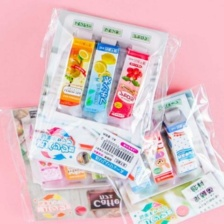carton: (80, 36, 122, 118), (106, 44, 152, 118), (54, 34, 96, 111), (160, 107, 204, 176), (139, 125, 178, 185), (124, 151, 151, 194), (36, 154, 65, 183), (62, 156, 90, 181)
